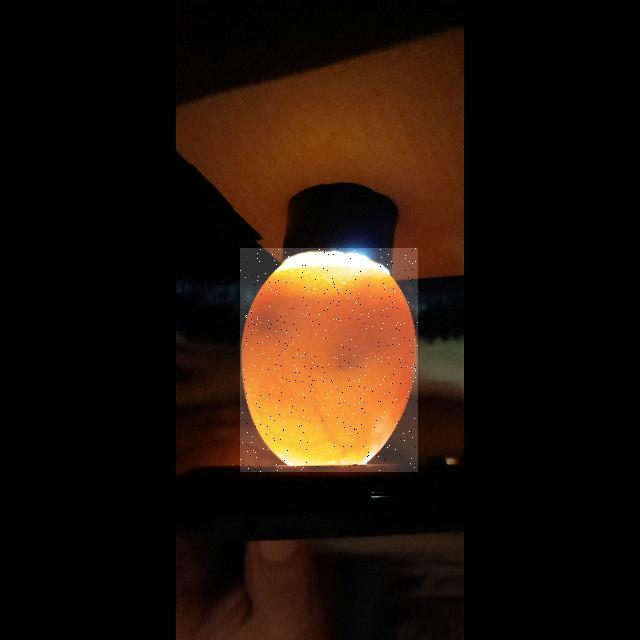Fertile: (240, 248, 418, 472)
